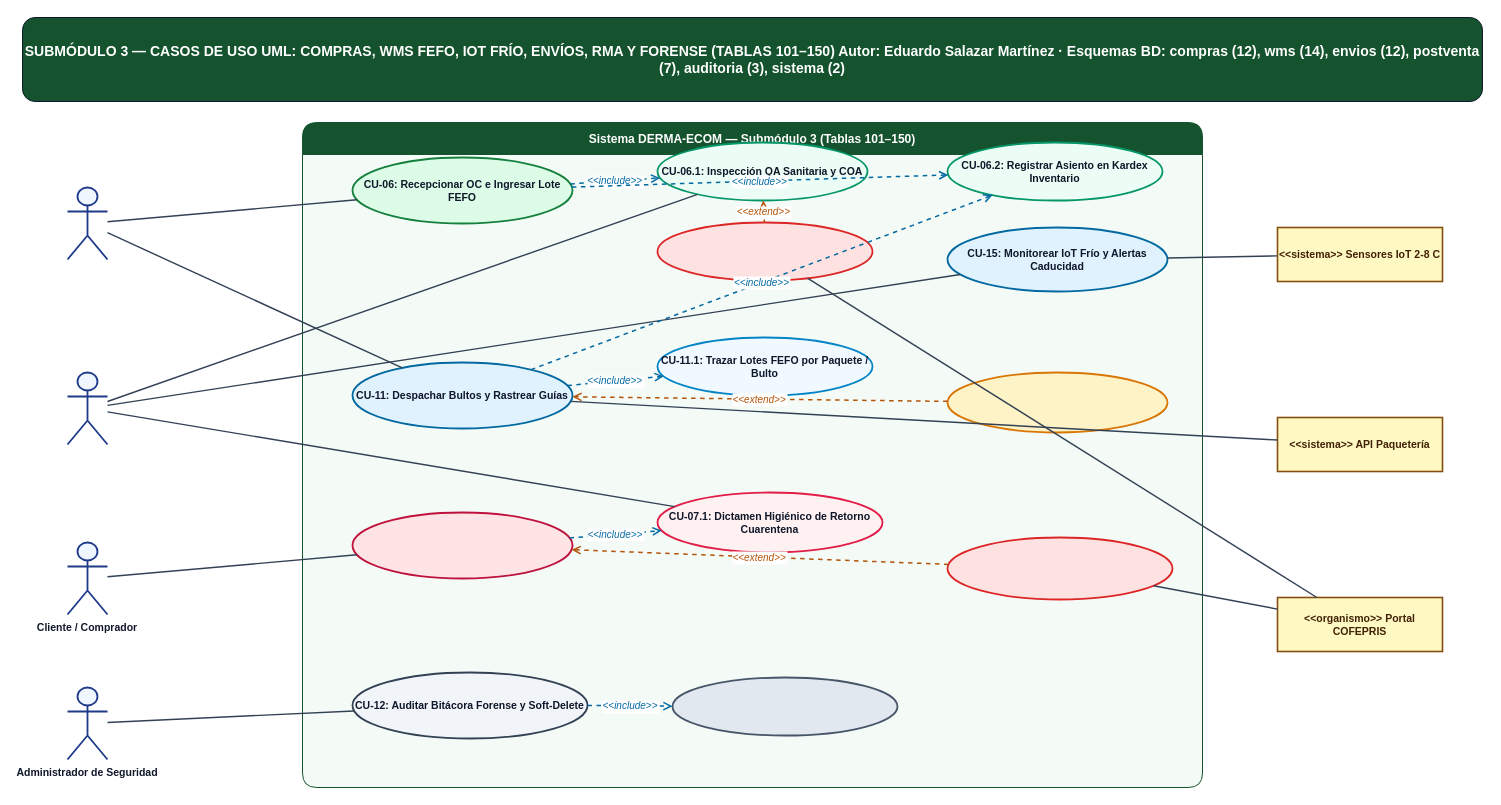
The diagram is 1501 pixels wide and 805 high, and some of its shapes have lost their labels. The shapes that lost their labels are listed below. From the top down, each one's centre as x and y in pixels, then its label:
the point at 87,223: Operador WMS CEDIS
the point at 764,251: CU-06.3: Cuarentena y Acta Destrucción COFEPRIS
the point at 87,408: Químico QA Sanitario
the point at 1057,402: CU-11.2: Entrega Locker Pickup o Incidencia
the point at 462,545: CU-07: Gestionar Devolución RMA y Retorno
the point at 1059,568: CU-07.2: Notificar RAM Farmacovigilancia COFEPRIS
the point at 784,706: CU-12.1: Sellar Evento con Firma HMAC-SHA256
